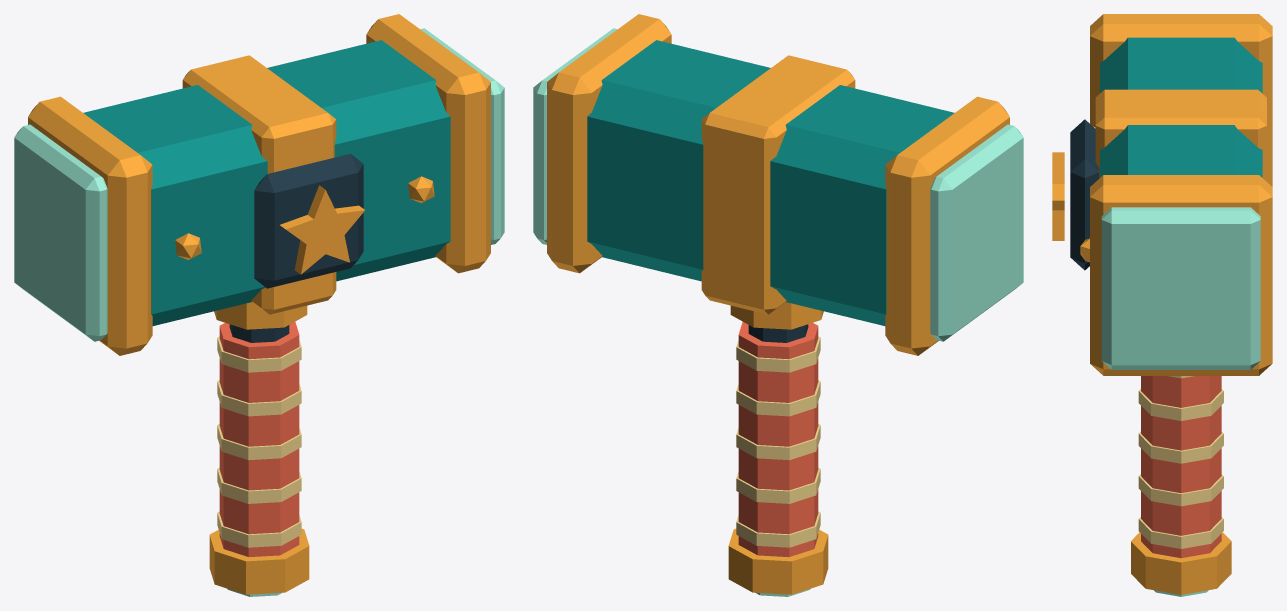
Rendered from UpgradeHammer.fbx.
3 views of the same model, side by side, from view 1: azimuth 30°, elevation 25°; view 2: azimuth 150°, elevation 25°; view 3: azimuth 270°, elevation 25° (orthographic). The views are drawn at different scales.
Parts seen in each view (by area): view 1: UpgradeHammer; view 2: UpgradeHammer; view 3: UpgradeHammer.
Part boxes in pixels (x1,y1,x2,y2): UpgradeHammer: (14,14,504,596); UpgradeHammer: (533,14,1023,596); UpgradeHammer: (1052,14,1272,596).
Bounding box in the file's own units: 42.1 × 47.5 × 19.65.
Materials: 1 (1 with a texture image).
